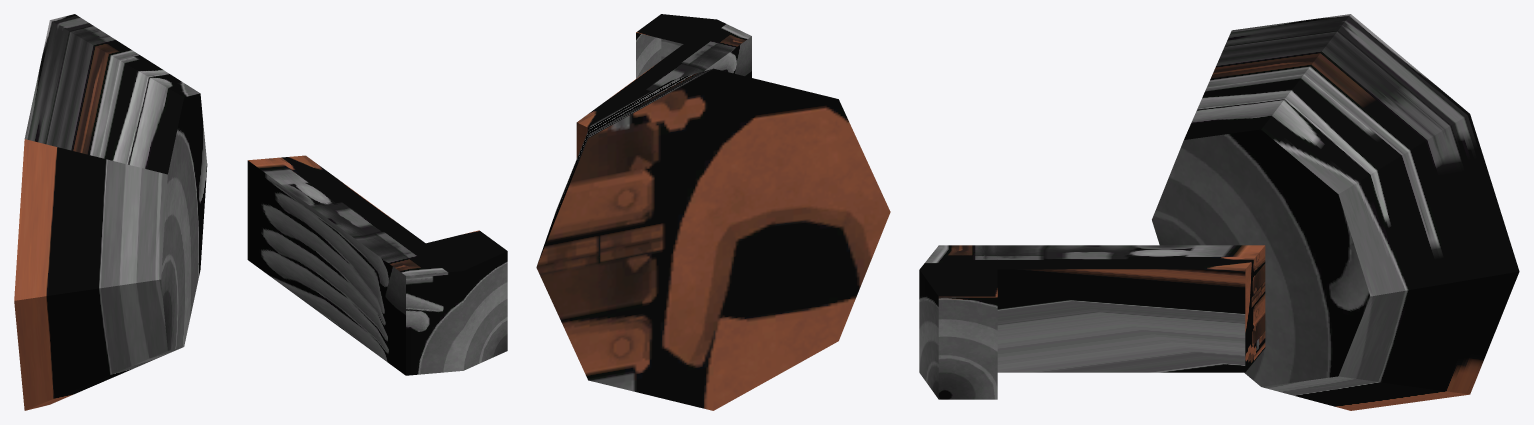
Rendered from nt_2020_car_wash_dish_LOD1.obj.
3 views of the same model, side by side, from view 1: azimuth 30°, elevation 25°; view 2: azimuth 150°, elevation 25°; view 3: azimuth 270°, elevation 25° (orthographic). The views are drawn at different scales.
Visible parts, largest first — view 1: mtl_nt_2020_car_wash_dish; view 2: mtl_nt_2020_car_wash_dish; view 3: mtl_nt_2020_car_wash_dish.
Boxes of the visible parts, box(x1,y1,x2,y2) form: mtl_nt_2020_car_wash_dish: box(14, 14, 507, 410); mtl_nt_2020_car_wash_dish: box(536, 14, 890, 410); mtl_nt_2020_car_wash_dish: box(919, 14, 1519, 410).
Bounding box in the file's own units: 96.14 × 94.07 × 129.
